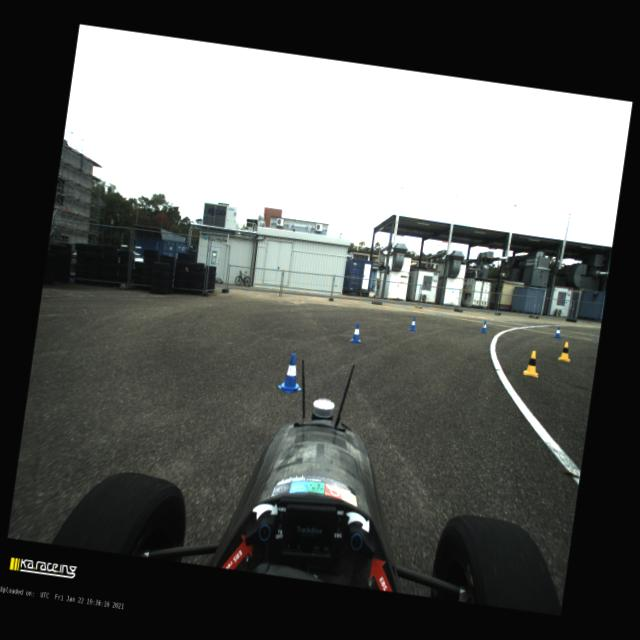blue_cone: (278, 352, 306, 395), (349, 322, 364, 344), (408, 316, 420, 333), (479, 321, 488, 334), (554, 326, 563, 339)
yellow_cone: (522, 349, 542, 378), (556, 340, 574, 362)
